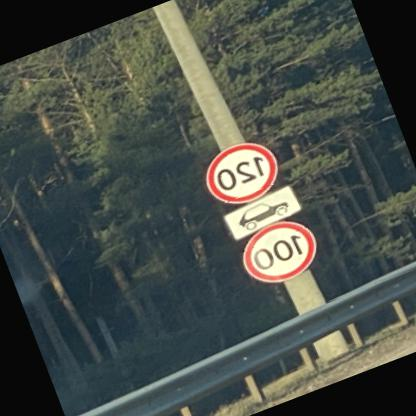speedlimit: (198, 132, 287, 212), (237, 210, 327, 289)
